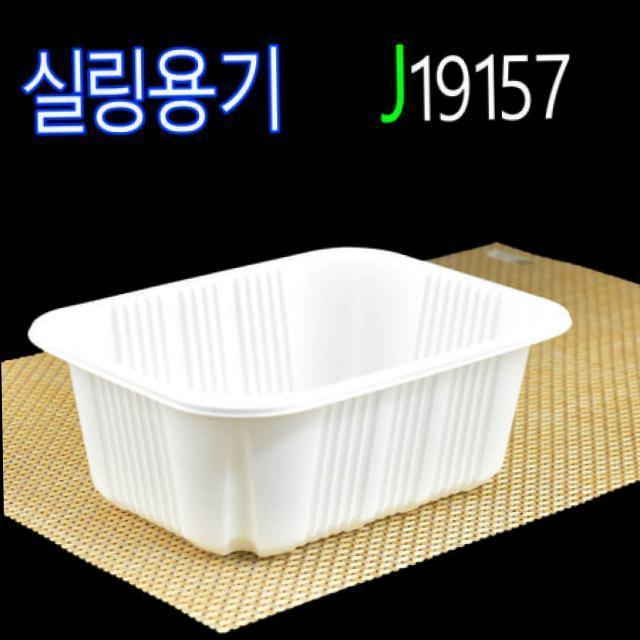disposable: (3, 233, 611, 569)
